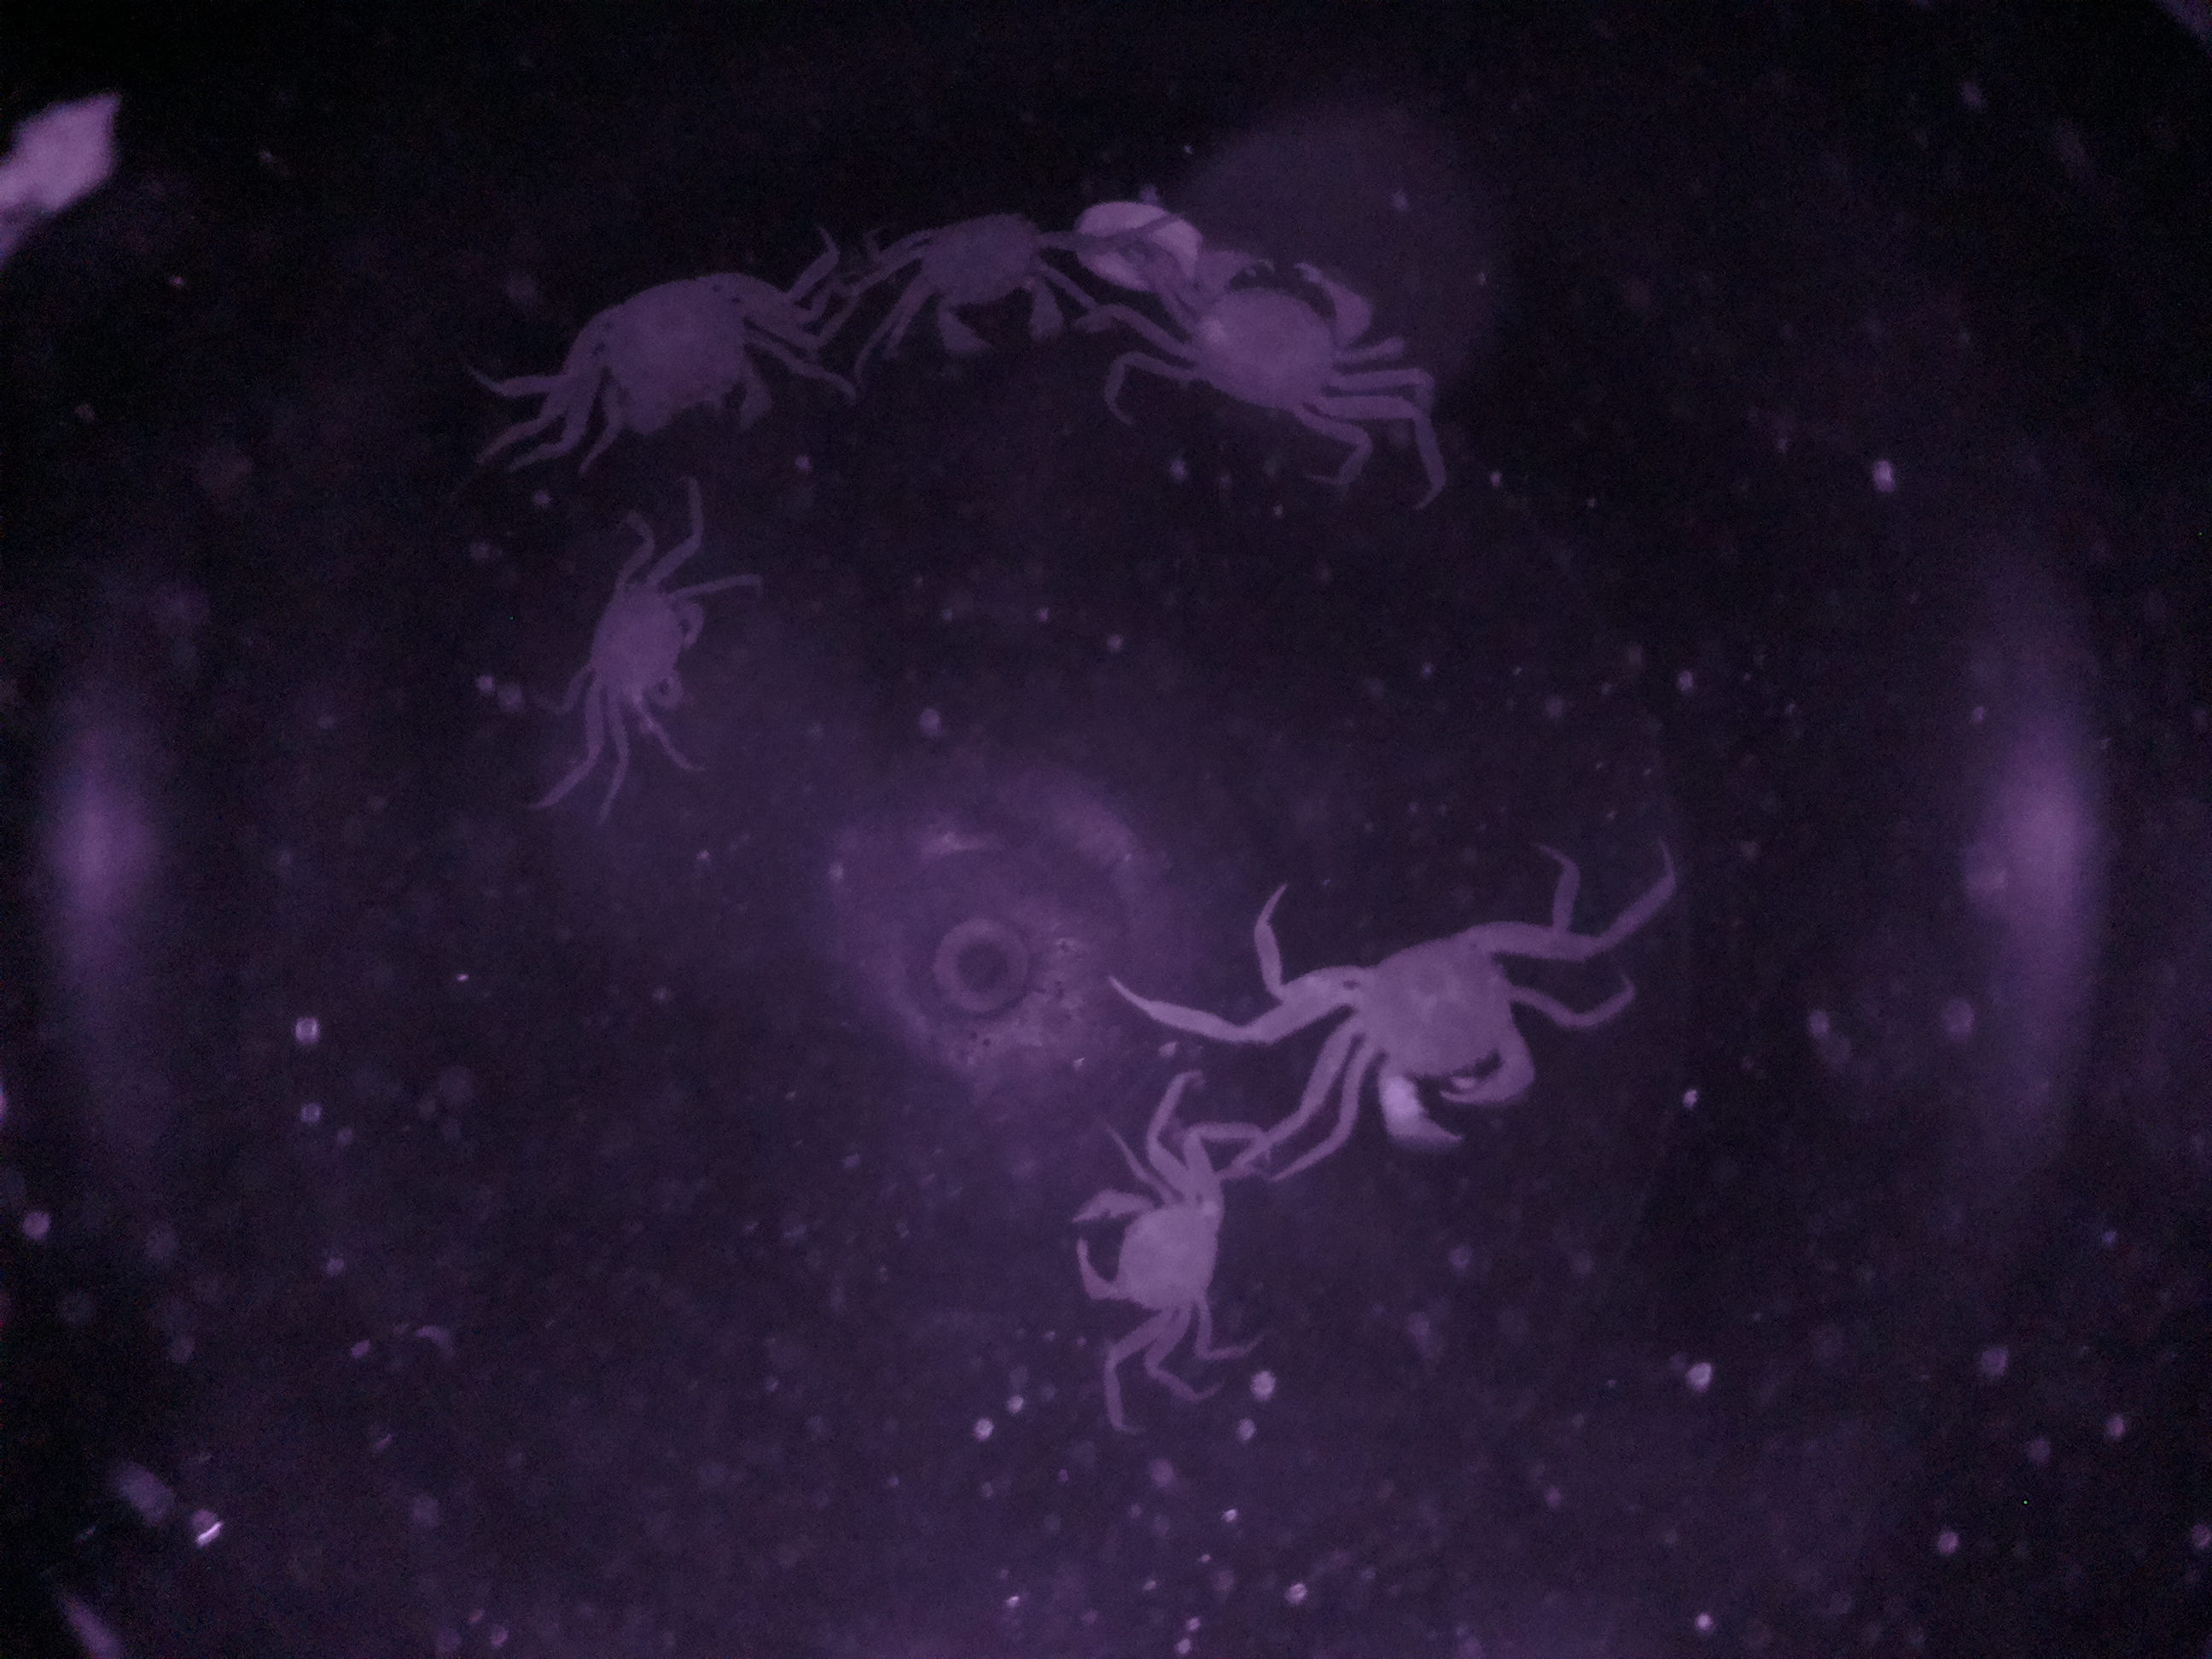Crab: (1306, 894, 1564, 1166), (1150, 228, 1407, 436), (1055, 1150, 1258, 1354), (892, 192, 1087, 376), (542, 554, 721, 737)
